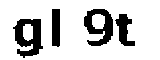9: (84, 6, 114, 51)
g: (12, 13, 44, 60)
l: (48, 3, 69, 54)
t: (115, 11, 139, 49)
